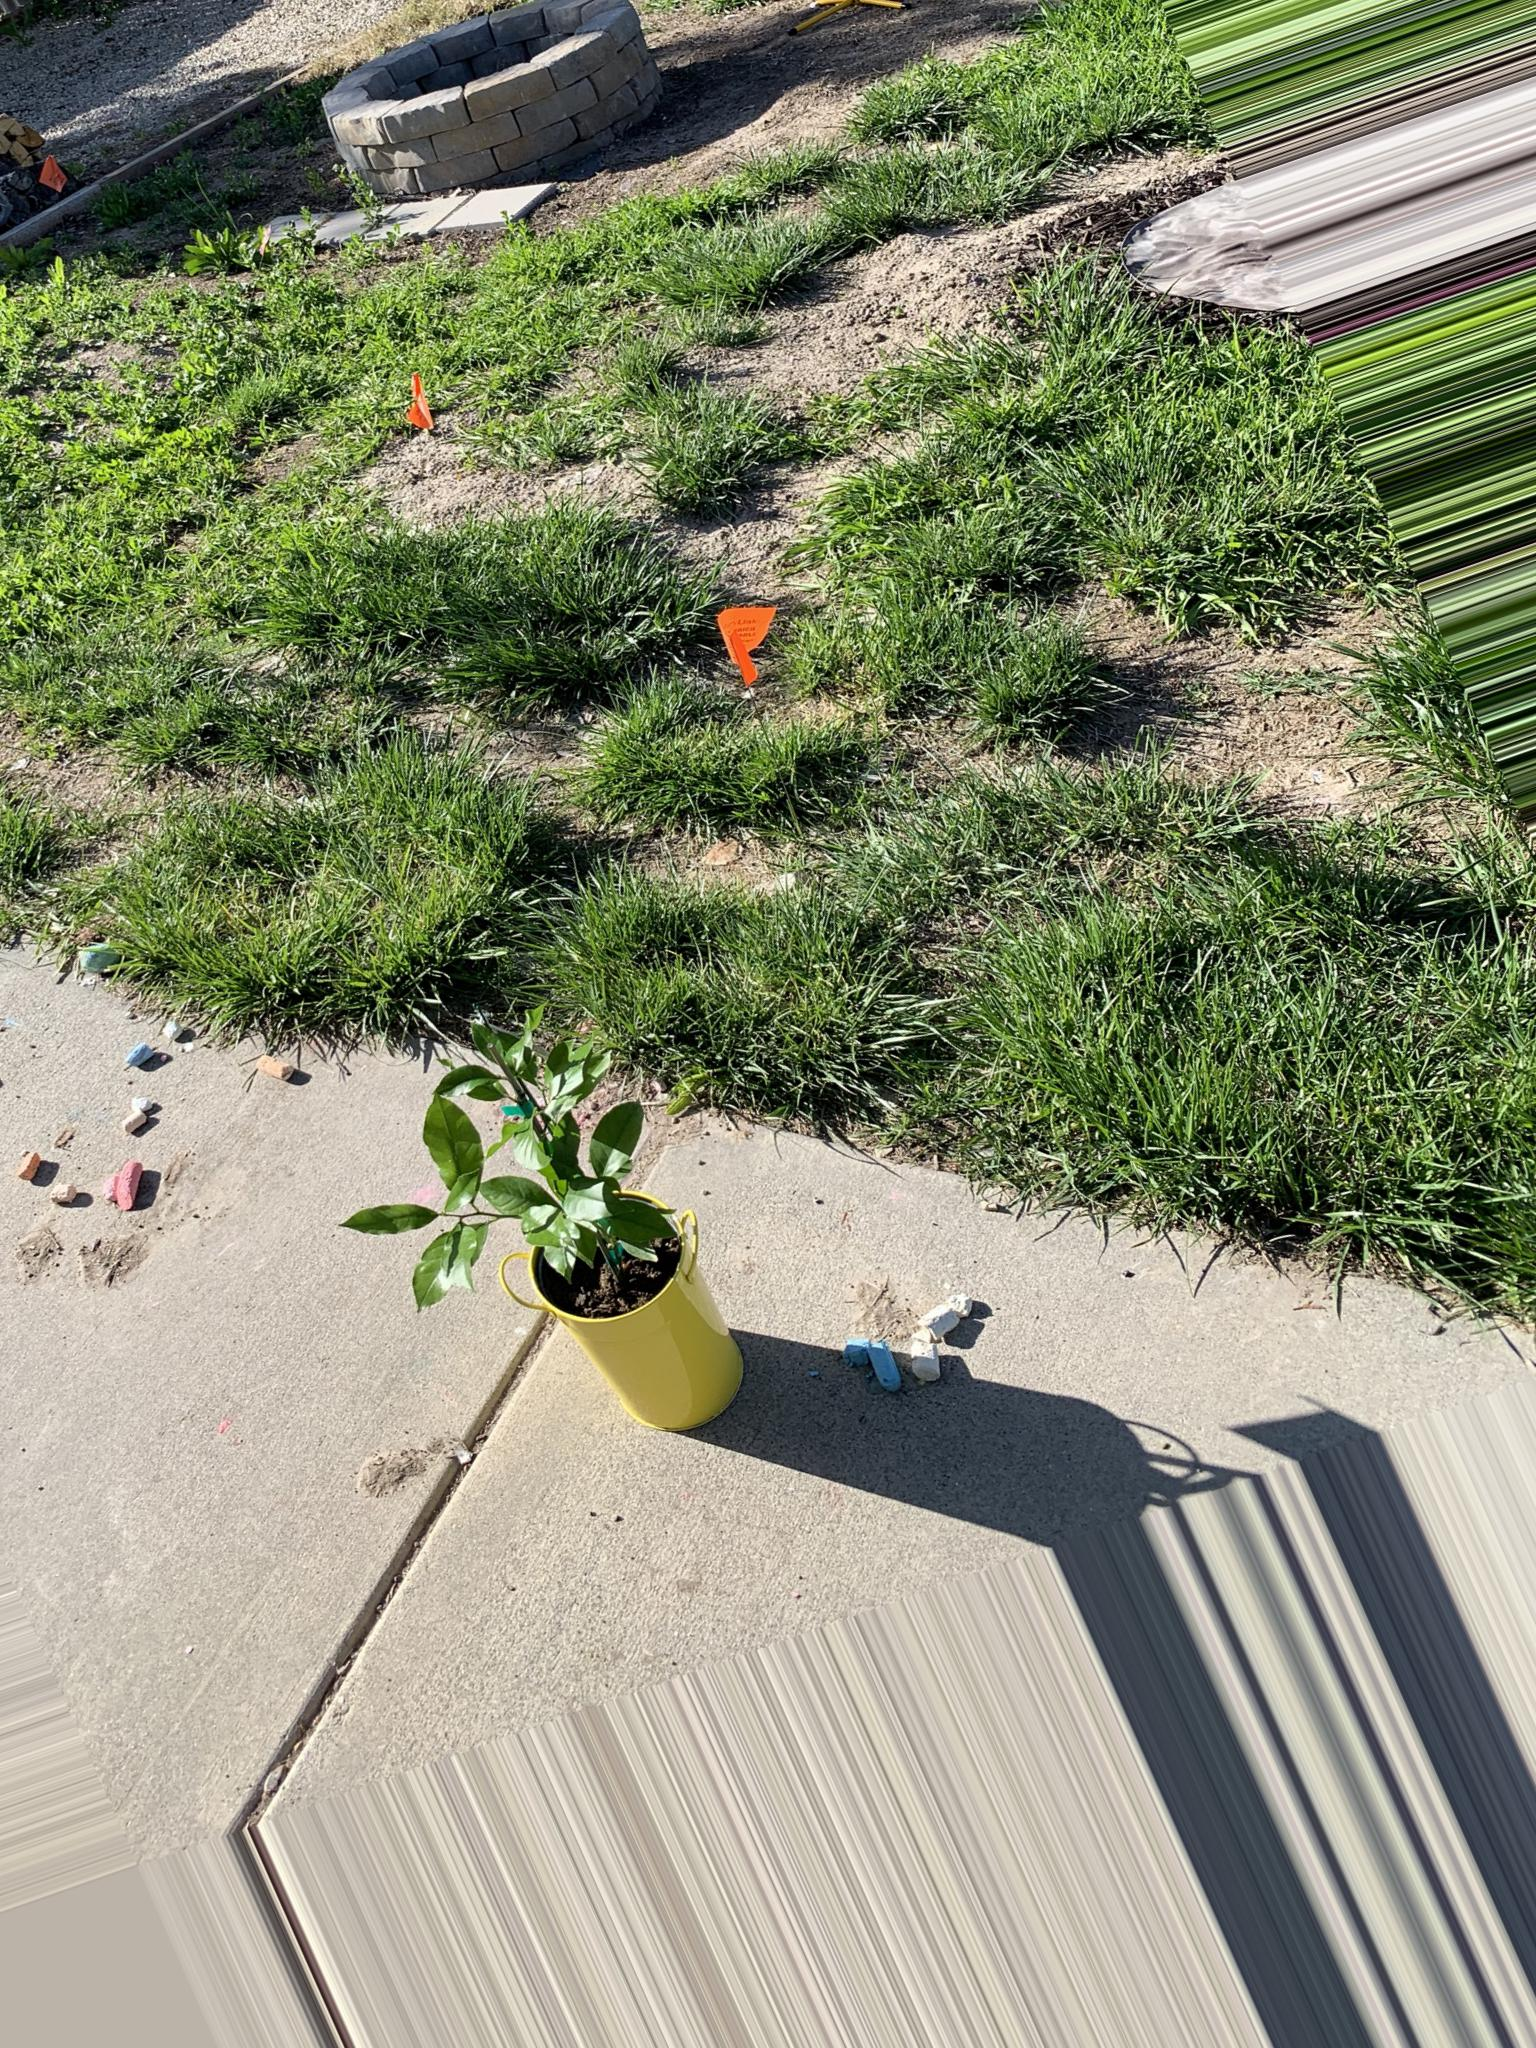patch: (431, 432, 594, 566), (1225, 655, 1370, 769), (490, 726, 645, 801), (828, 297, 970, 348), (686, 835, 770, 898), (749, 339, 816, 408), (749, 497, 791, 569), (1100, 598, 1152, 655)
